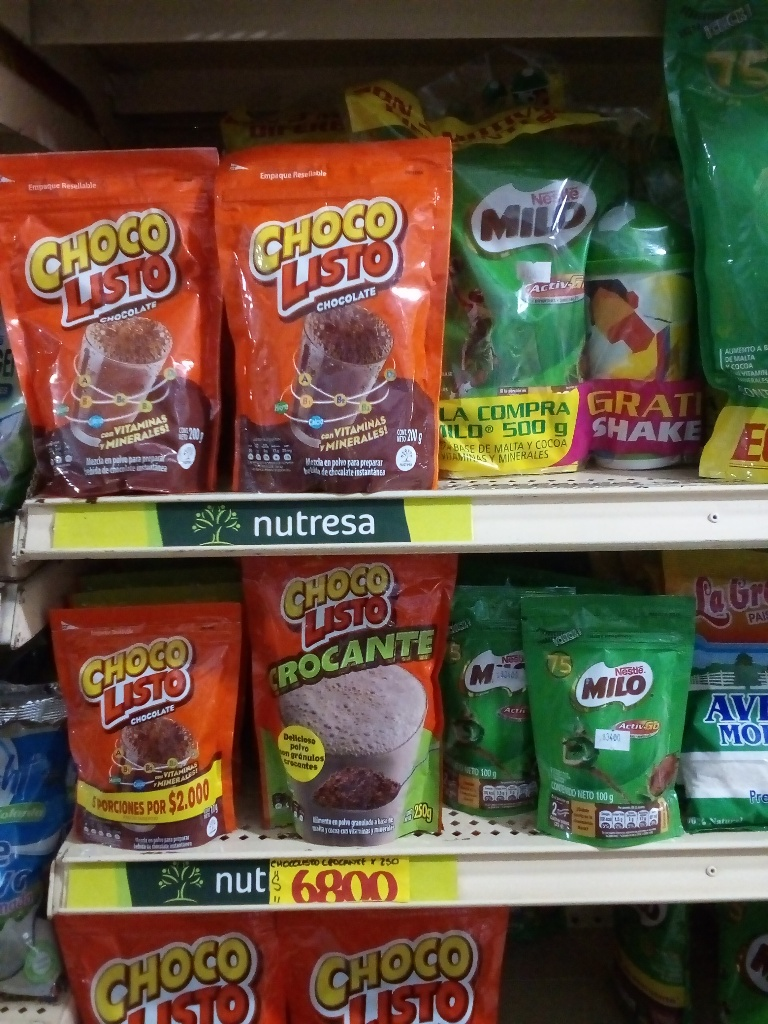COL0170203DYP10000: (446, 579, 577, 817)
COL0170203DYP50000: (383, 105, 587, 472)
